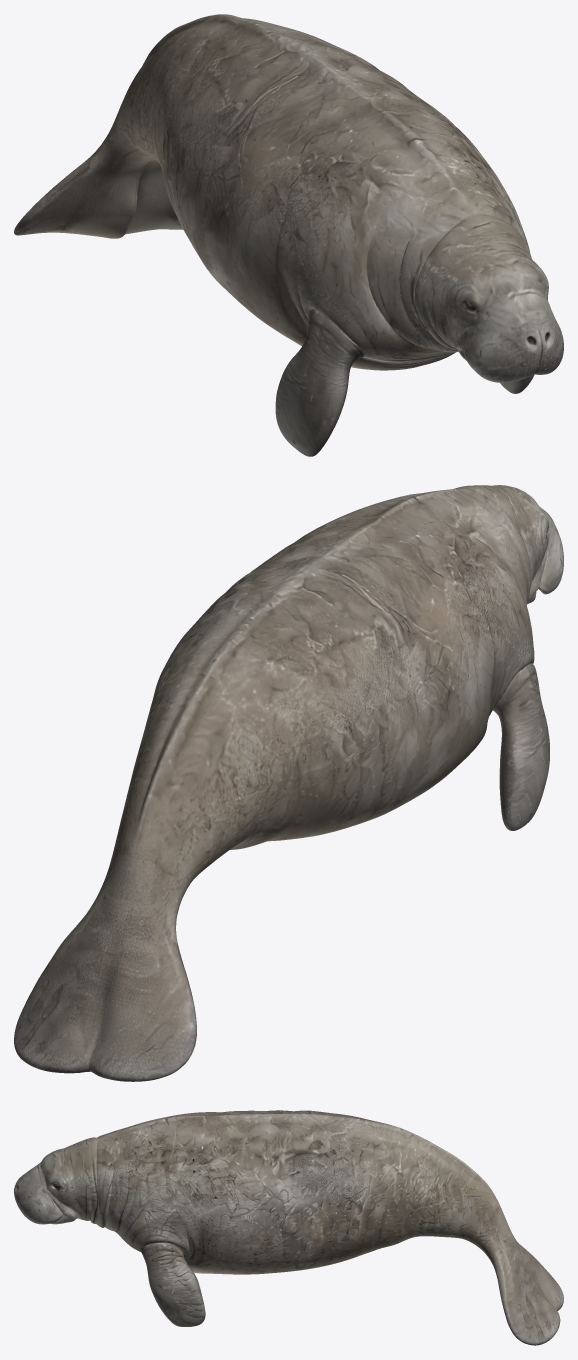
The model's file is manatee.glb.
3 renders of one model, top to bottom at view 1: azimuth 30°, elevation 25°; view 2: azimuth 150°, elevation 25°; view 3: azimuth 270°, elevation 25°, orthographic. The views are drawn at different scales.
Parts seen in each view (by area): view 1: model; view 2: model; view 3: model.
Part boxes in pixels (x1=…): model: x1=14, y1=14, x2=563, y2=456; model: x1=14, y1=485, x2=563, y2=1081; model: x1=14, y1=1110, x2=563, y2=1345.
Size of the model in its own units: 0.5982 by 0.7917 by 1.9.
Materials: 1 (1 with a texture image).
